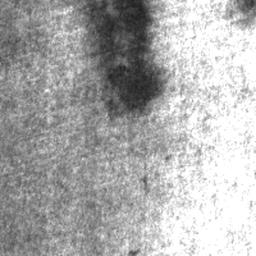Patches: (88, 0, 163, 111)
